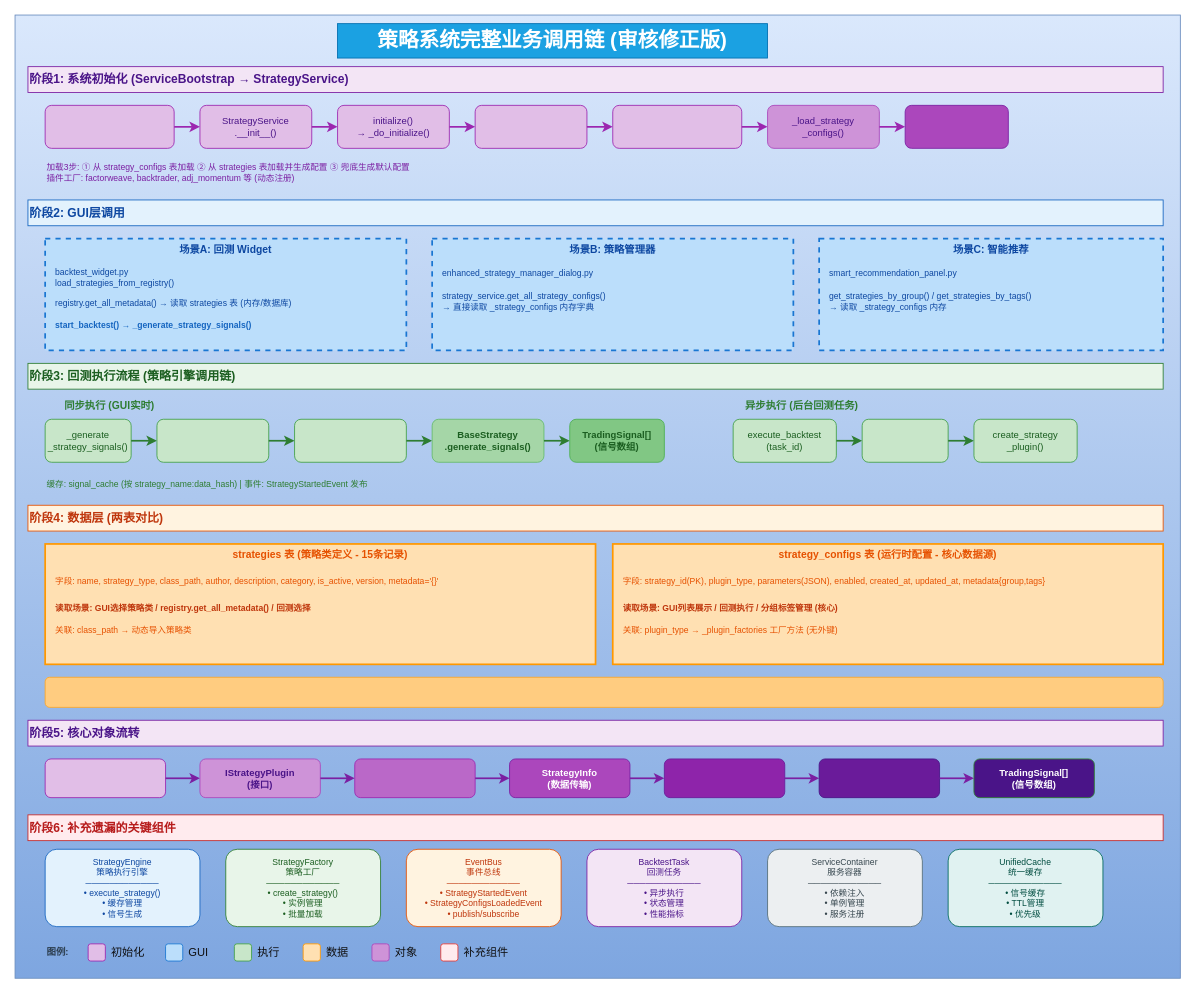
Image size: 1195x993. Some labels were removed from this diagram. The shapes that lost their labels are listed below. From the top down, each one's centre as x and y in pixels, then its label:
At [109,126]: "ServiceBootstrap ._register_plugin_services()".
At [530,126]: "_load_strategy _plugins()".
At [677,126]: "_register_builtin _plugin_factories()".
At [956,126]: "_strategy_configs (内存字典)".
At [212,440]: "StrategyEngine .execute_strategy()".
At [350,440]: "StrategyFactory .create_strategy()".
At [904,440]: "get_strategy _config()".
At [603,691]: "关键结论: GUI列表主要使用 strategy_configs (内存缓存)，strategies 表主要用于回测时选择策略类进行动态导入".
At [105,778]: "PluginFactory (字典)".
At [414,778]: "StrategyConfig (数据类)".
At [724,778]: "StrategyRegistry (注册器)".
At [879,778]: "BaseStrategy (策略基类)".
